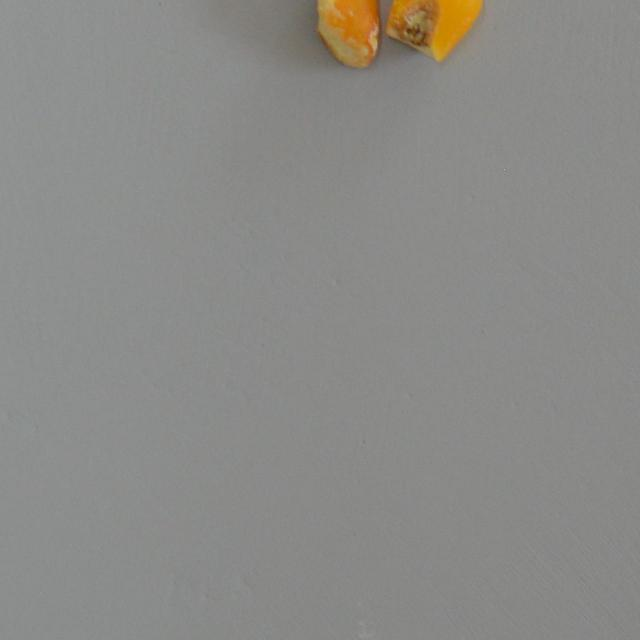dañado: (382, 0, 487, 64), (313, 0, 382, 70)
